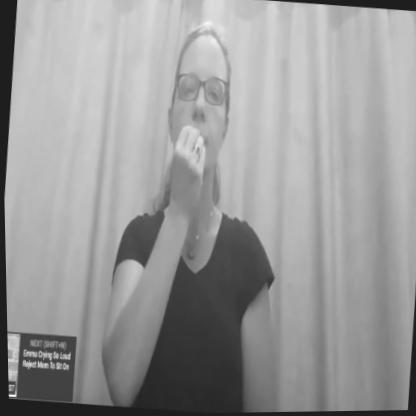Food: (131, 7, 262, 282)
